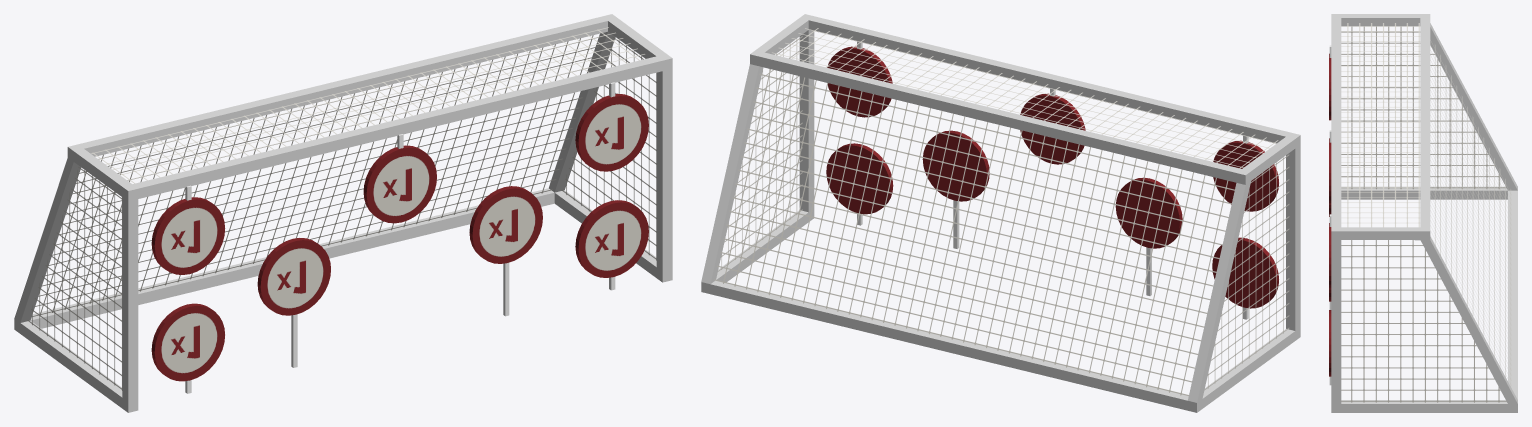
The model's file is goal.glb.
The picture shows the model from 3 angles, left to right: view 1: azimuth 30°, elevation 25°; view 2: azimuth 150°, elevation 25°; view 3: azimuth 270°, elevation 25°; orthographic projection. The views are drawn at different scales.
Visible parts, largest first — view 1: frame, net, target3, target5, target2, target6, target7, target4, target1; view 2: frame, net, target5, target3, target6, target2, target4, target7, target1; view 3: net, frame, target7, target1, target6, target4.
Part boxes in pixels (<box>): frame: <box>14,14,672,412</box>; net: <box>27,27,656,390</box>; target3: <box>257,238,330,367</box>; target5: <box>469,186,542,316</box>; target2: <box>151,303,224,393</box>; target6: <box>575,200,648,290</box>; target7: <box>575,82,648,171</box>; target4: <box>363,134,436,223</box>; target1: <box>151,185,225,274</box>; frame: <box>701,14,1300,412</box>; net: <box>714,28,1289,395</box>; target5: <box>922,130,989,248</box>; target3: <box>1115,177,1182,295</box>; target6: <box>826,143,893,225</box>; target2: <box>1212,237,1278,319</box>; target4: <box>1020,88,1085,164</box>; target7: <box>827,41,892,117</box>; target1: <box>1213,136,1278,211</box>; net: <box>1341,23,1511,402</box>; frame: <box>1331,14,1517,412</box>; target7: <box>1329,214,1331,289</box>; target1: <box>1329,45,1331,120</box>; target6: <box>1329,310,1331,385</box>; target4: <box>1329,130,1331,204</box>.
Bounding box in the file's own units: 12.85 × 5 × 4.71.
Materials: 4 (2 with a texture image).
